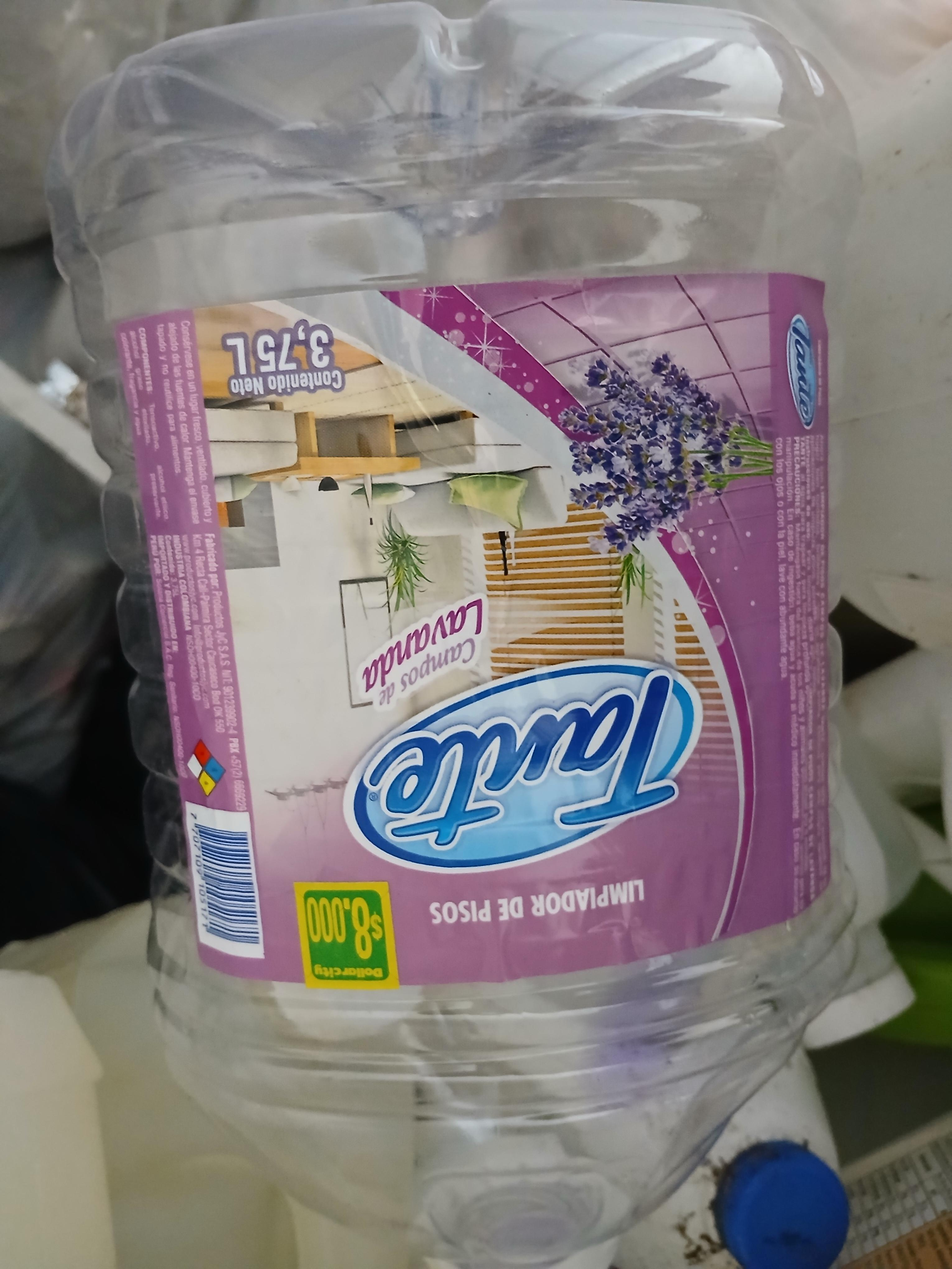Plastico: (64, 0, 857, 1269)
